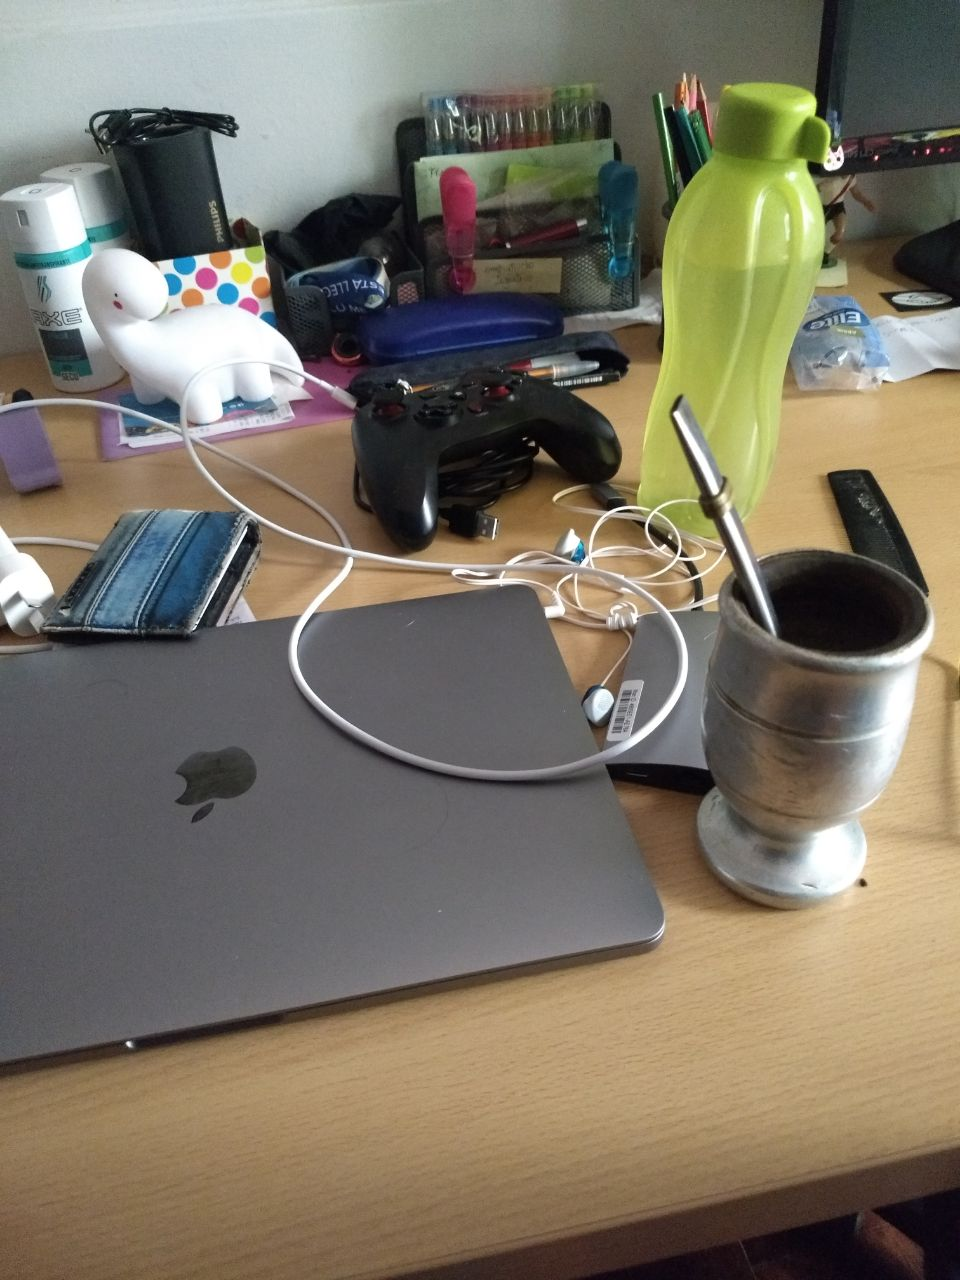mate: (668, 393, 939, 916)
metal: (666, 391, 937, 914)
